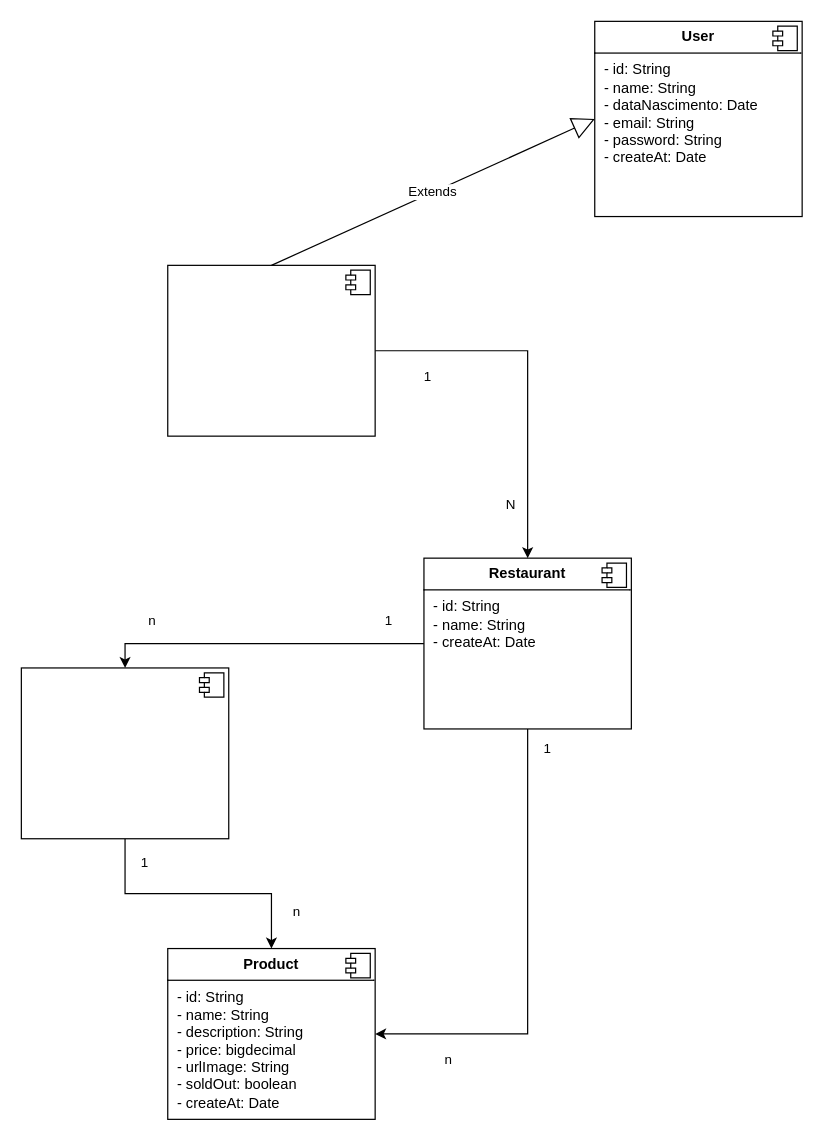
This 824x1141 diagram has some shape labels left out. Each missing label, with the centre of its shape:
Category - id: String - name: String - createAt: Date: (124,753)
UserAdmin - cnpj: String: (271,350)
